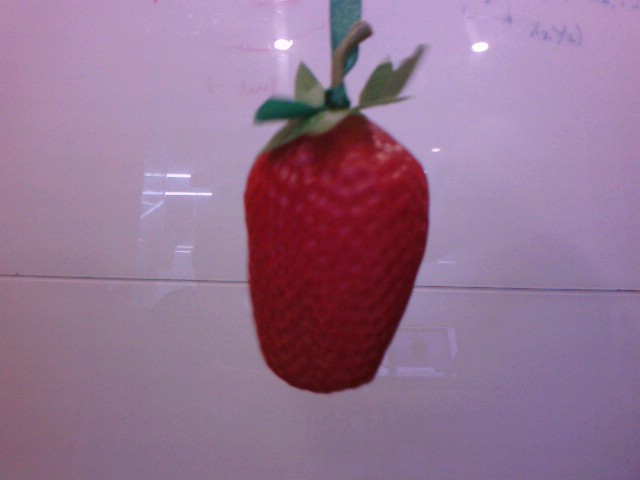strawberry: (237, 90, 433, 394)
